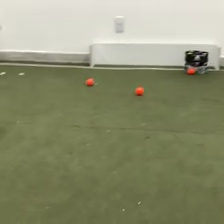ball: (134, 85, 144, 95), (84, 76, 94, 86), (187, 65, 196, 75)
goal: (88, 41, 221, 72)
robot: (183, 49, 211, 74)
